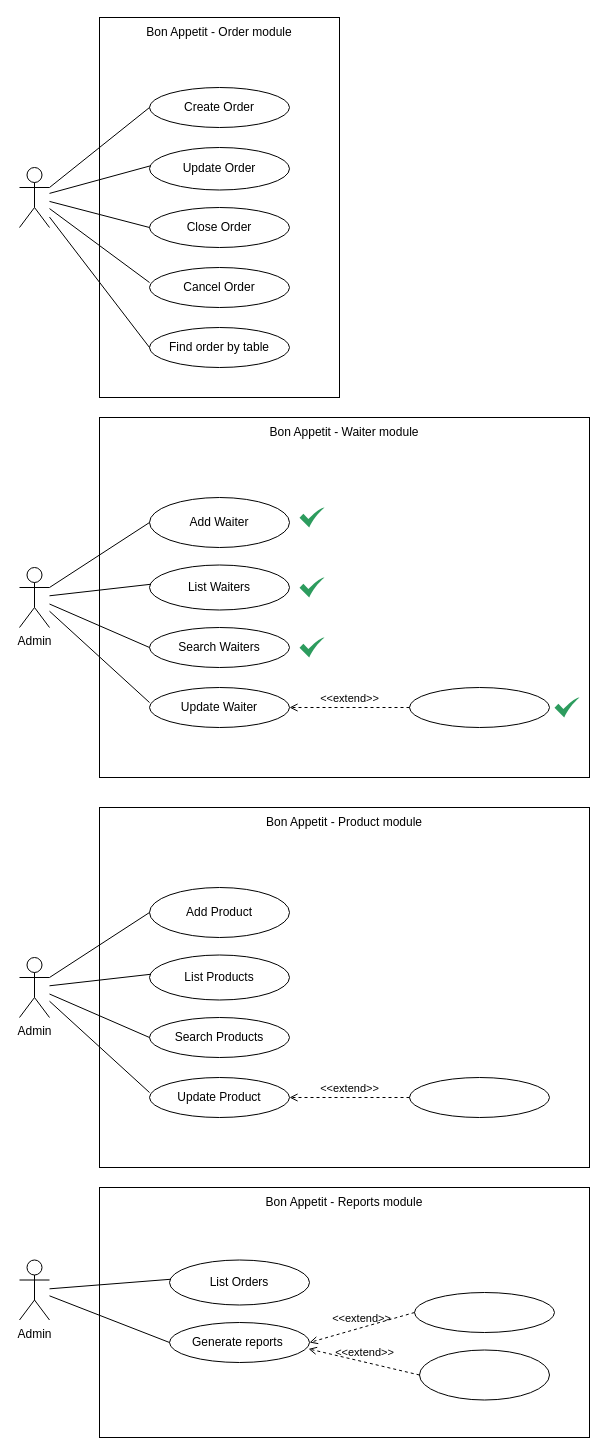
Some shapes in this 607 by 1455 pixel diagram are drawn without their labels. Each missing label, with the box of its shape:
Disable Product: (408, 1076, 550, 1118)
Disable Waiter: (408, 686, 550, 728)
Sales report: (414, 1292, 554, 1332)
Waiter: (18, 166, 50, 228)
Waiter Performance report: (418, 1349, 550, 1400)
